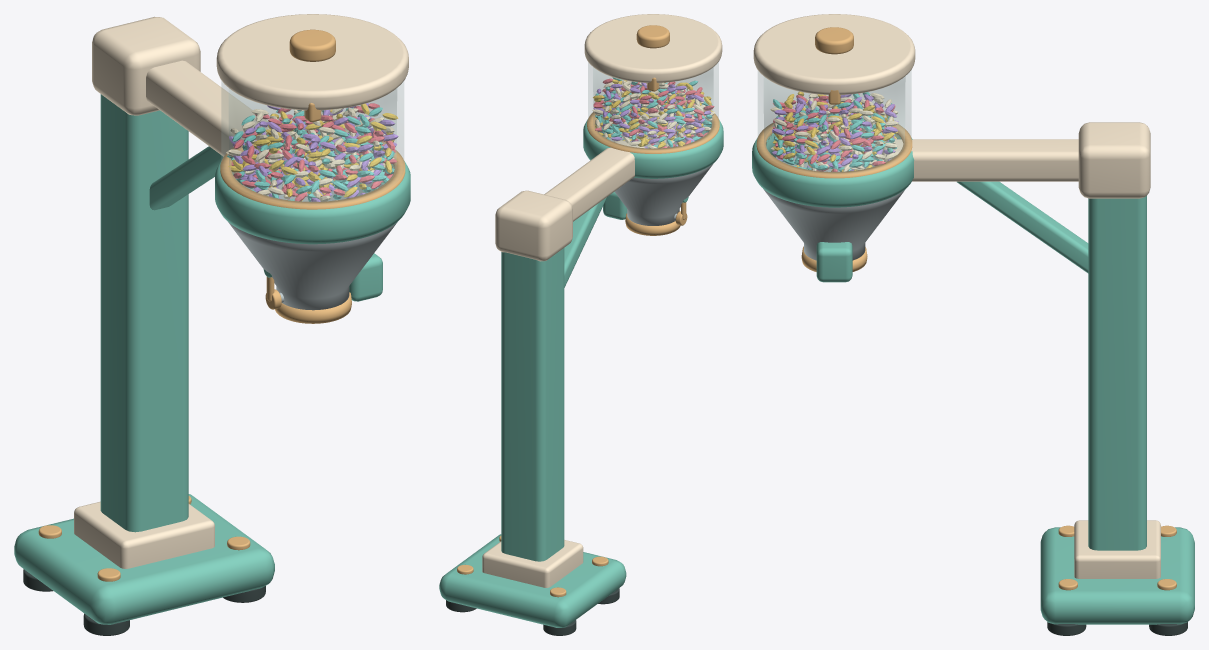
Rendered from topping-station.glb.
3 renders of one model, left to right at view 1: azimuth 30°, elevation 25°; view 2: azimuth 150°, elevation 25°; view 3: azimuth 270°, elevation 25°, orthographic. The views are drawn at different scales.
Parts seen in each view (by area): view 1: Upright, Clear cartridge, Bedplate, Twist lid, Sugar stock, Load bearing collar, Spun steel funnel, Top elbow, Cantilever, Column shoe, Lower seal, Cast diagonal gusset (+4 smaller); view 2: Upright, Clear cartridge, Bedplate, Twist lid, Sugar stock, Top elbow, Cantilever, Spun steel funnel, Load bearing collar, Column shoe, Lower seal, Cast diagonal gusset (+3 smaller); view 3: Upright, Clear cartridge, Bedplate, Twist lid, Sugar stock, Cantilever, Top elbow, Load bearing collar, Spun steel funnel, Cast diagonal gusset, Column shoe, Lower seal (+2 smaller).
Boxes of the visible parts, left/top/right/bottom form: Upright: left=100, top=94, right=188, bottom=532; Clear cartridge: left=221, top=81, right=403, bottom=205; Bedplate: left=14, top=494, right=274, bottom=624; Twist lid: left=216, top=14, right=408, bottom=110; Sugar stock: left=226, top=103, right=398, bottom=201; Load bearing collar: left=215, top=137, right=410, bottom=244; Spun steel funnel: left=228, top=169, right=397, bottom=310; Top elbow: left=92, top=16, right=200, bottom=115; Cantilever: left=146, top=60, right=296, bottom=182; Column shoe: left=74, top=501, right=214, bottom=568; Lower seal: left=220, top=130, right=405, bottom=209; Cast diagonal gusset: left=149, top=146, right=223, bottom=210; Upright: left=501, top=248, right=564, bottom=561; Clear cartridge: left=588, top=62, right=718, bottom=150; Bedplate: left=439, top=534, right=626, bottom=627; Twist lid: left=584, top=14, right=722, bottom=82; Sugar stock: left=592, top=77, right=715, bottom=148; Top elbow: left=495, top=190, right=572, bottom=261; Cantilever: left=544, top=140, right=645, bottom=221; Spun steel funnel: left=609, top=124, right=713, bottom=225; Load bearing collar: left=583, top=103, right=723, bottom=178; Column shoe: left=482, top=540, right=583, bottom=587; Lower seal: left=587, top=99, right=719, bottom=153; Cast diagonal gusset: left=564, top=197, right=607, bottom=287; Upright: left=1088, top=195, right=1146, bottom=550; Clear cartridge: left=758, top=70, right=911, bottom=174; Bedplate: left=1040, top=527, right=1194, bottom=624; Twist lid: left=753, top=14, right=915, bottom=94; Sugar stock: left=770, top=91, right=898, bottom=171; Cantilever: left=881, top=139, right=1078, bottom=181; Top elbow: left=1078, top=122, right=1150, bottom=198; Load bearing collar: left=752, top=122, right=914, bottom=207; Spun steel funnel: left=763, top=147, right=905, bottom=260; Cast diagonal gusset: left=957, top=181, right=1088, bottom=273; Column shoe: left=1074, top=520, right=1160, bottom=578; Lower seal: left=756, top=118, right=912, bottom=178.
Bounding box in the file's own units: 1.18 × 4.17 × 2.95.
